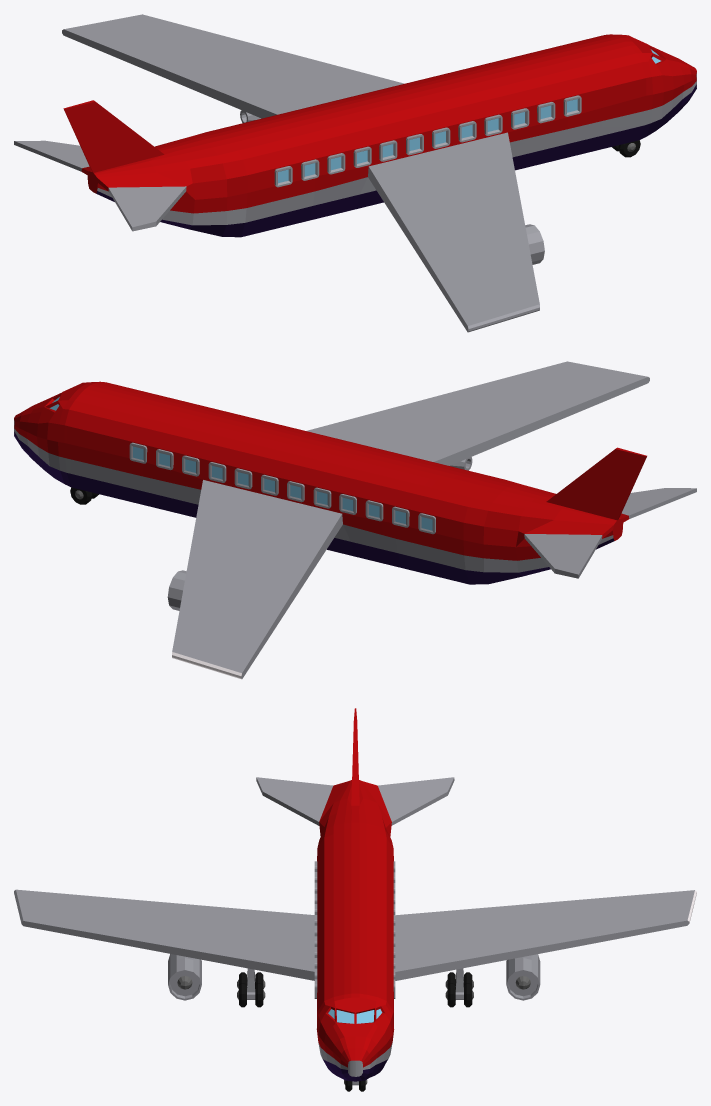
File: PershogubaPlane.fbx
3 views of the same model, one above another, from view 1: azimuth 30°, elevation 25°; view 2: azimuth 150°, elevation 25°; view 3: azimuth 270°, elevation 25° (orthographic). The views are drawn at different scales.
Parts seen in each view (by area): view 1: Plane_Плоскость; view 2: Plane_Плоскость; view 3: Plane_Плоскость.
Boxes of the visible parts, x1,y1,x2,y2 form: Plane_Плоскость: (14, 14, 696, 332); Plane_Плоскость: (14, 361, 696, 679); Plane_Плоскость: (14, 708, 696, 1091).
Bounding box in the file's own units: 722 × 200 × 808.
